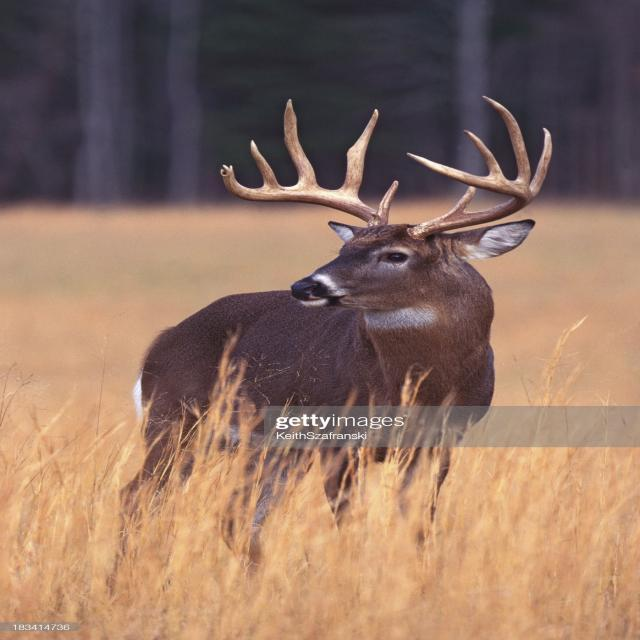L-F: (406, 152, 532, 241)
L-G1: (450, 186, 476, 213)
L-G2: (529, 127, 553, 200)
L-G3: (482, 95, 531, 185)
L-G4: (462, 130, 505, 178)
R-F: (220, 164, 388, 228)
R-G1: (376, 180, 399, 220)
R-G2: (339, 109, 379, 195)
R-G3: (283, 99, 318, 186)
R-G4: (250, 140, 280, 187)
